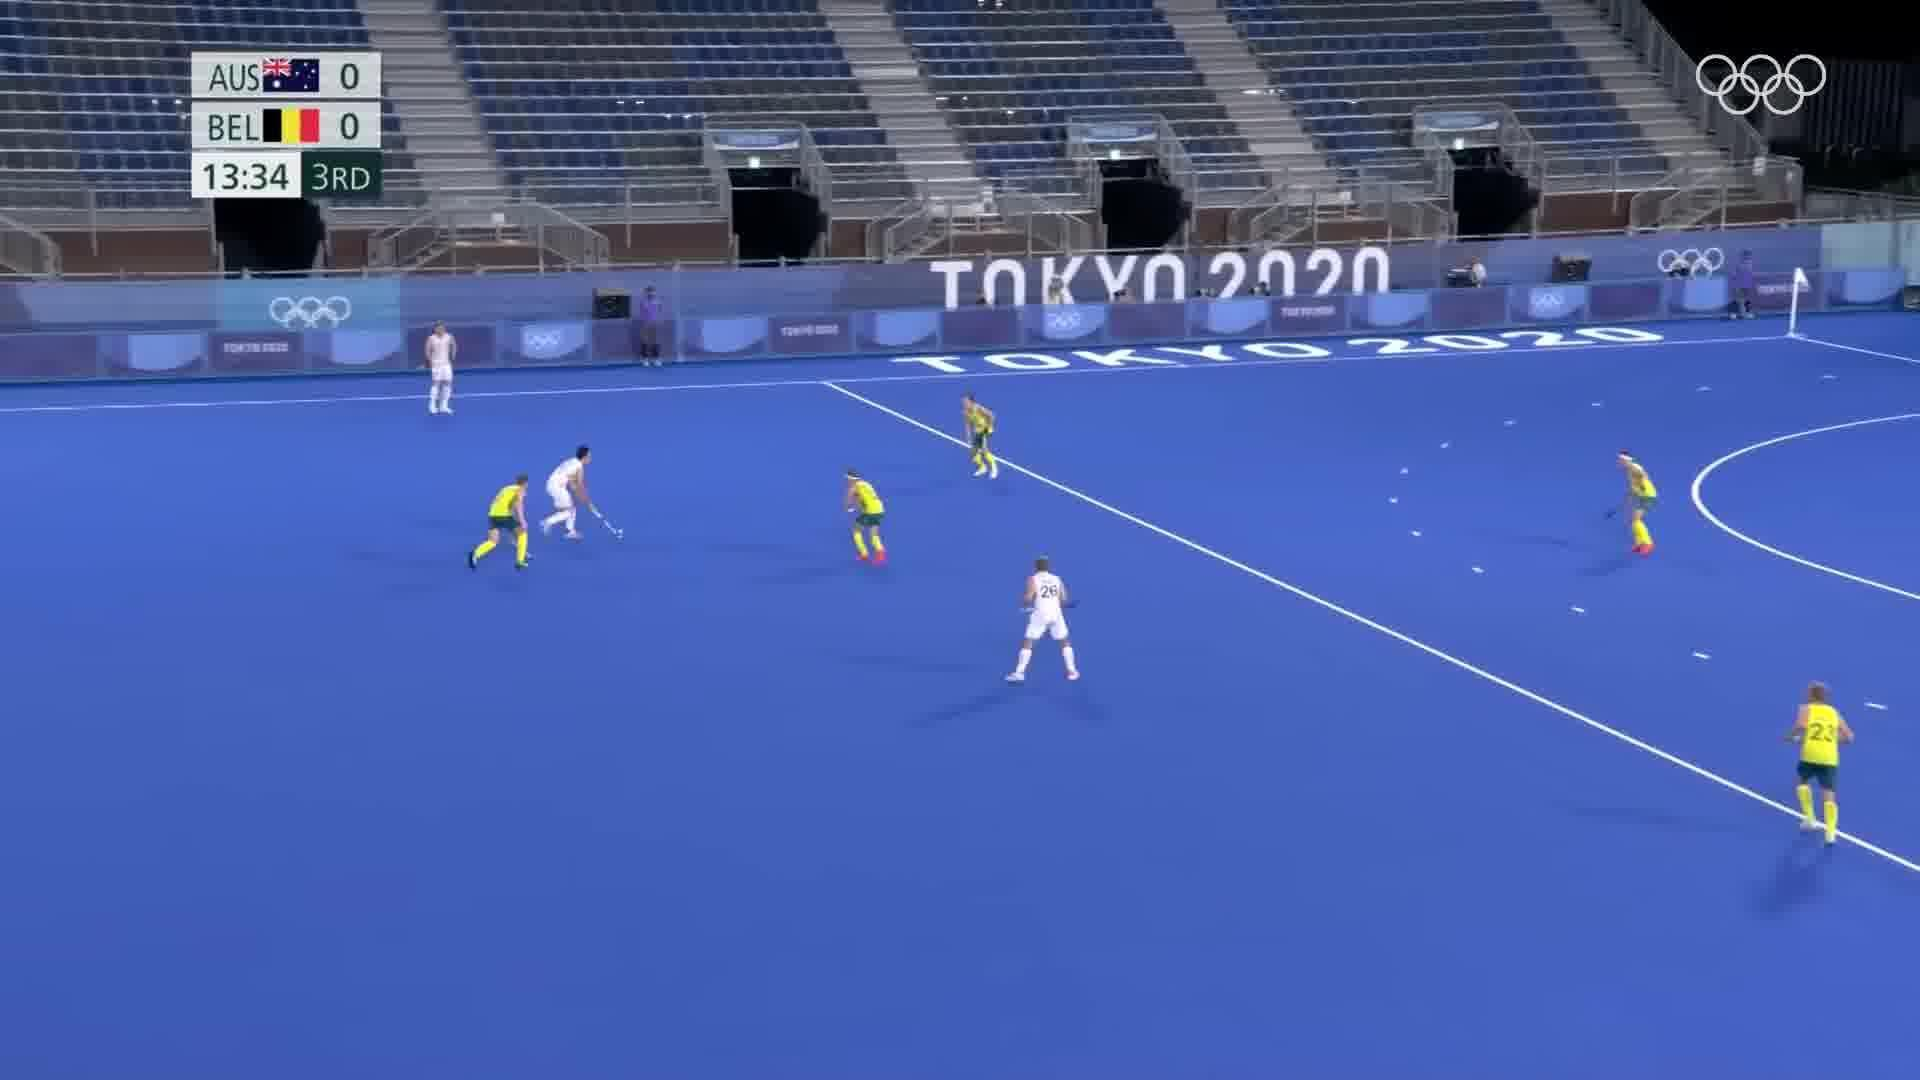ball: (612, 526, 628, 541)
